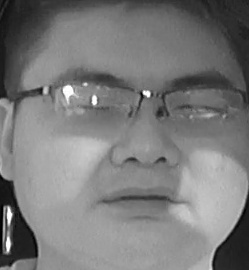glass: (49, 83, 140, 131), (160, 86, 243, 134)
mouth: (101, 183, 179, 219)
